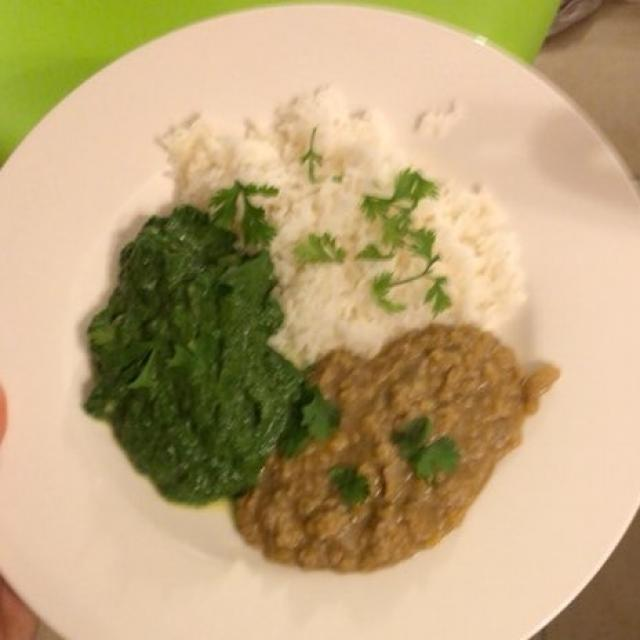rice: (170, 96, 524, 354)
soup: (255, 320, 543, 565)
spinach: (94, 200, 303, 510)
